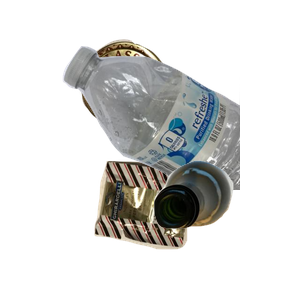glass: (151, 158, 300, 300)
metal: (78, 37, 243, 163)
plastic: (60, 44, 300, 224)
trash: (92, 158, 277, 300)
